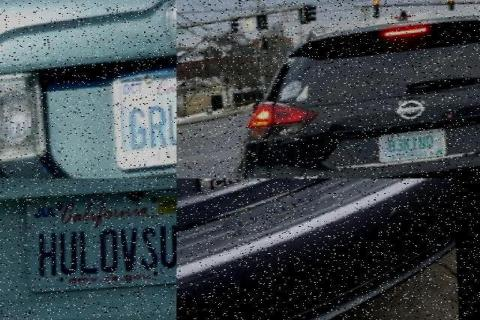LicensePlate: (19, 185, 177, 299), (110, 58, 177, 172), (380, 129, 450, 165)
